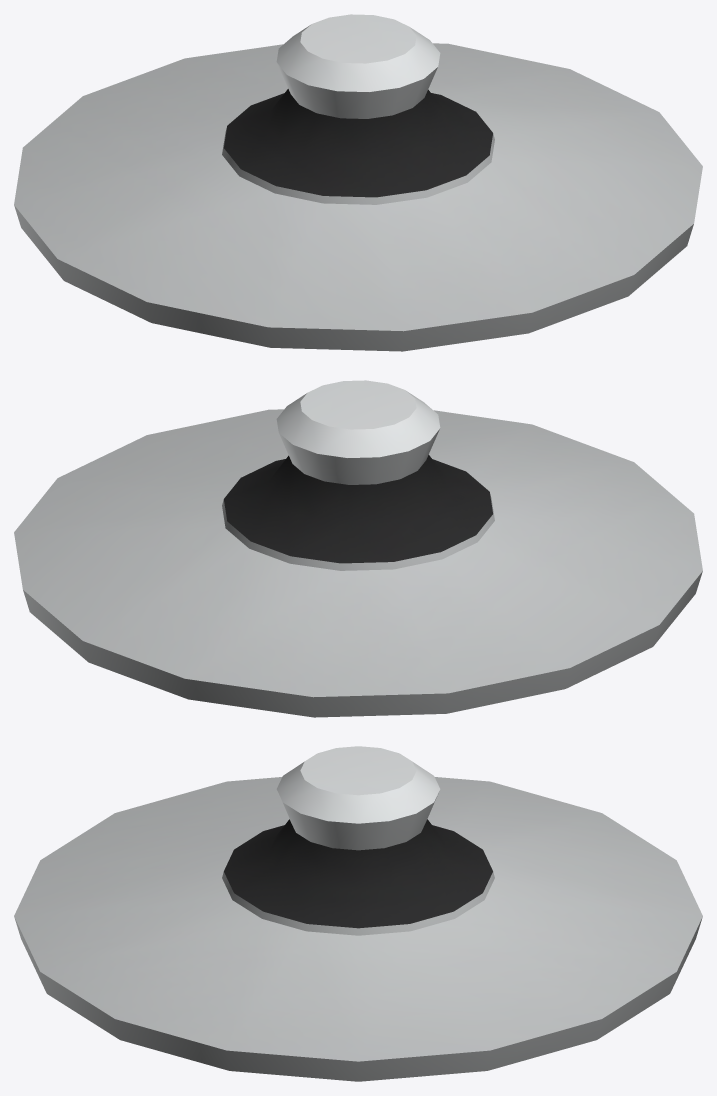
The model's file is Cooking_Pot_Lid.fbx.
3 views of the same model, one above another, from view 1: azimuth 30°, elevation 25°; view 2: azimuth 150°, elevation 25°; view 3: azimuth 270°, elevation 25° (orthographic).
Parts seen in each view (by area): view 1: Cooking_Pot_Lid; view 2: Cooking_Pot_Lid; view 3: Cooking_Pot_Lid.
Part boxes in pixels (<box>): Cooking_Pot_Lid: <box>14,14,702,351</box>; Cooking_Pot_Lid: <box>14,380,702,717</box>; Cooking_Pot_Lid: <box>14,746,702,1081</box>.
Bounding box in the file's own units: 23.4 × 6.37 × 23.4.
